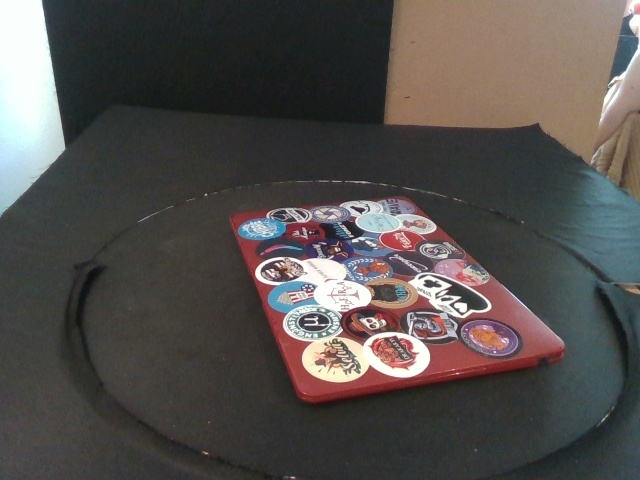laptop: (230, 194, 566, 403)
